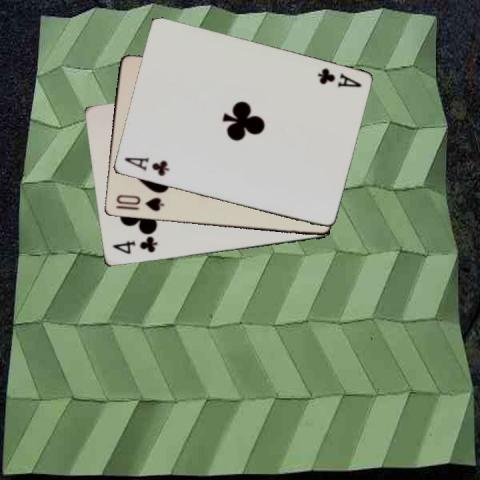10s: (113, 192, 164, 213)
4c: (109, 235, 159, 256)
Ac: (120, 154, 170, 178), (314, 66, 363, 90)
